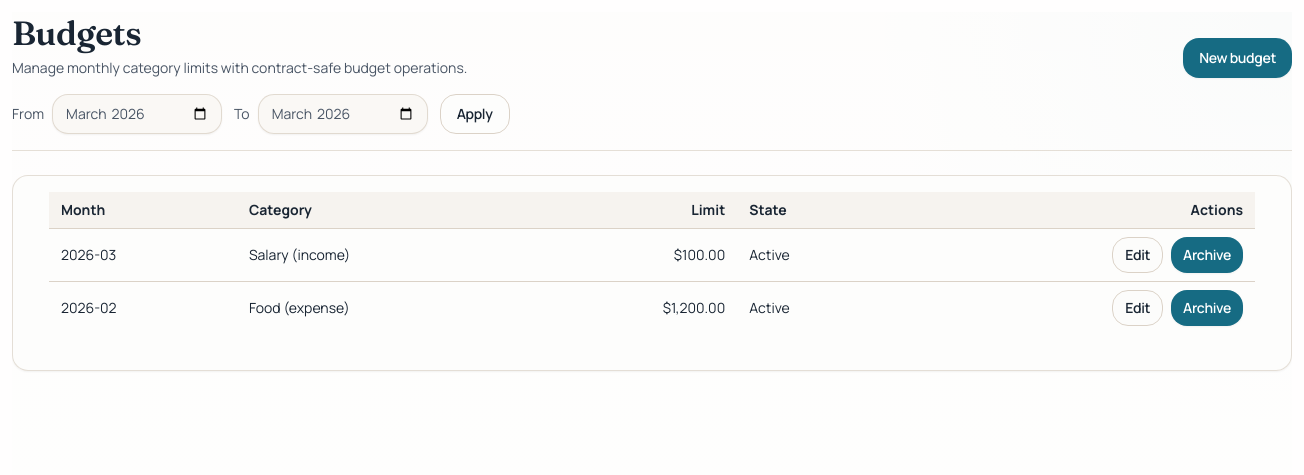
Test: BudgetsPage › shows validation feedback for invalid month range
The image size is (1304, 475).
Check: the text "2026-03" is shown, box left=49, top=228, right=237, bottom=282
Replace the text in the field named "From month" with "2026-05" at [137, 114], box left=52, top=94, right=222, bottom=134
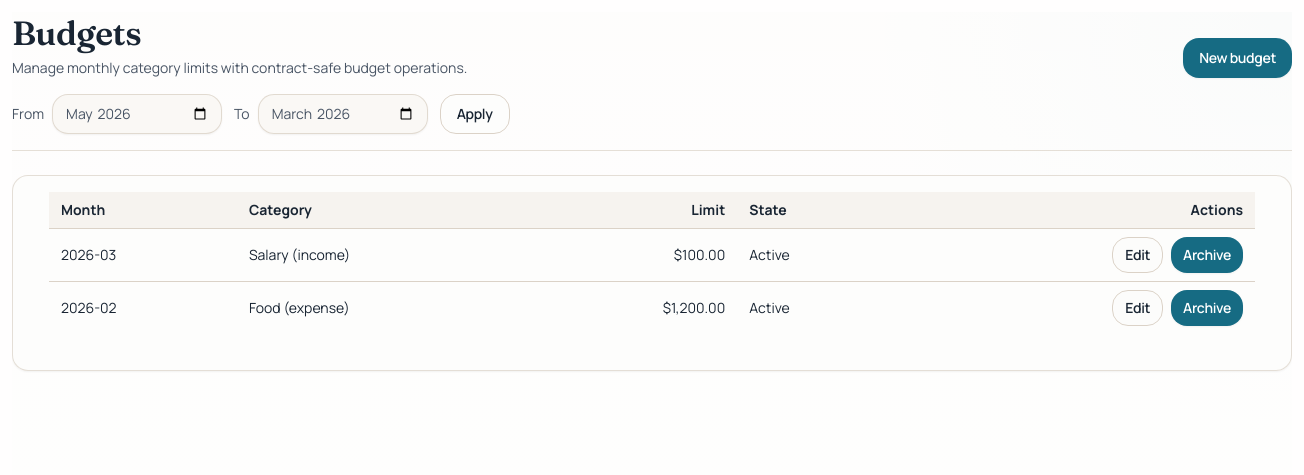
Replace the text in the field named "To month" with "2026-01" at [343, 114], box left=258, top=94, right=428, bottom=134
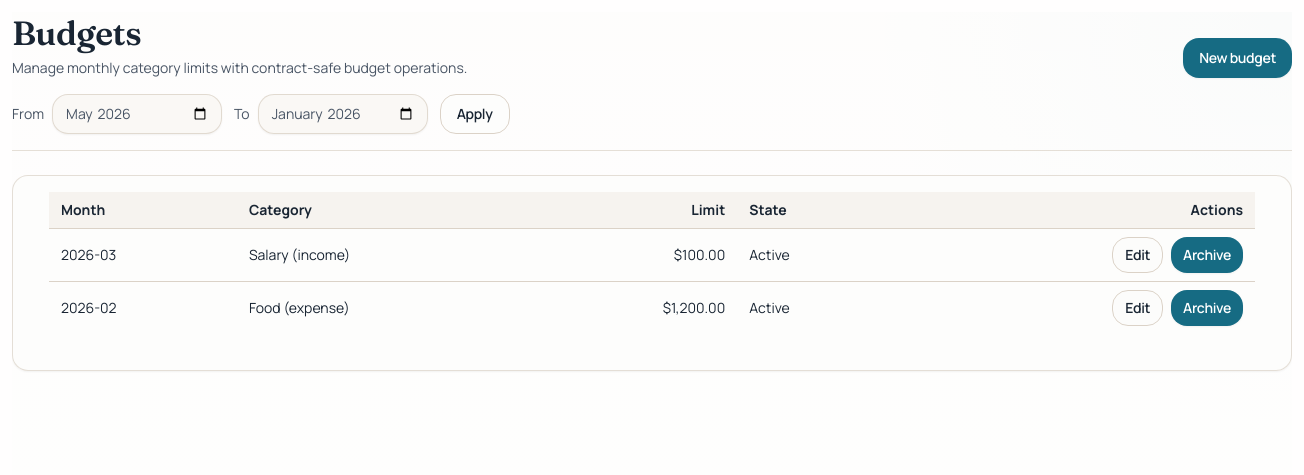
Click the button "Apply".
click(475, 114)  # box left=440, top=94, right=510, bottom=134
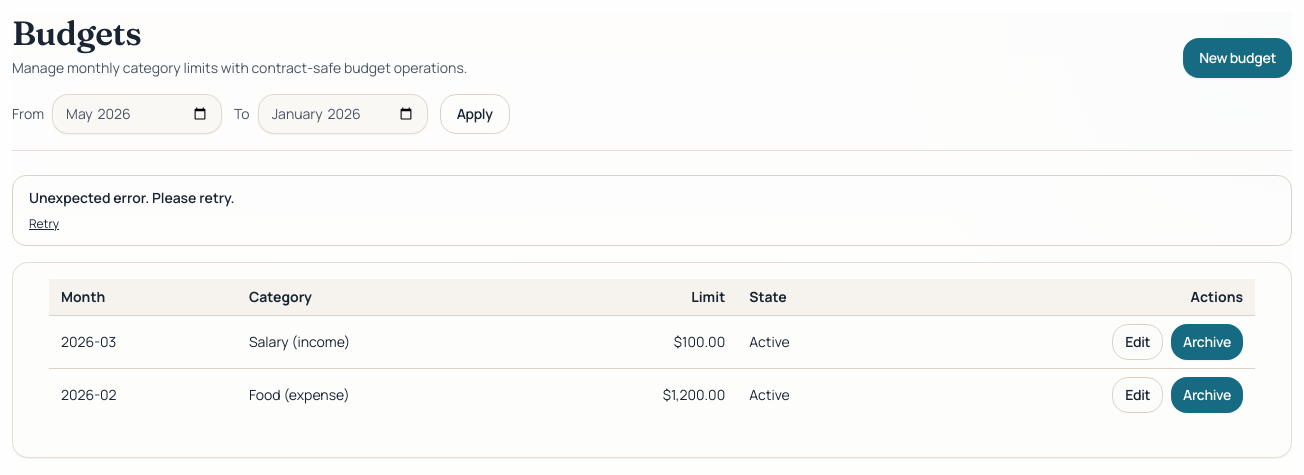
Check: the text "Unexpected error. Please retry." is shown, box left=29, top=188, right=235, bottom=207
